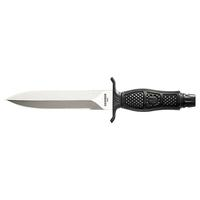knife: (2, 79, 199, 118)
